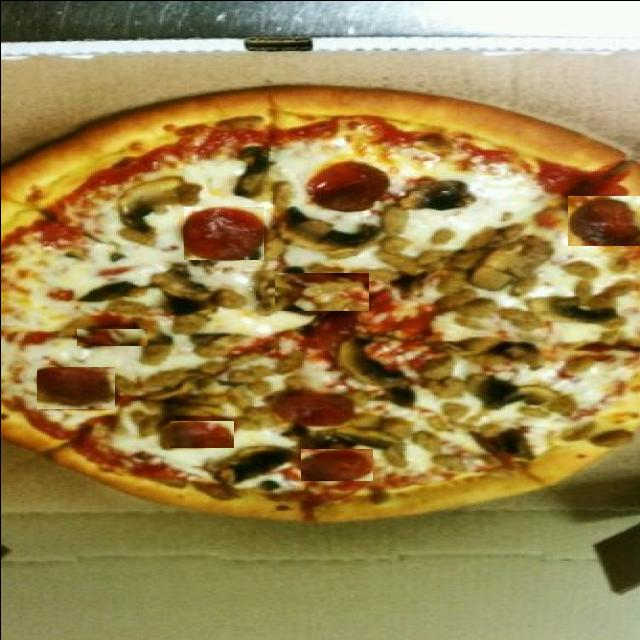pepperoni: (183, 206, 263, 259), (303, 160, 389, 208), (567, 195, 640, 245), (274, 272, 368, 310), (36, 366, 114, 408), (281, 382, 349, 426), (300, 448, 372, 480), (169, 420, 233, 447), (76, 326, 146, 344)
pizza: (0, 85, 640, 520)
